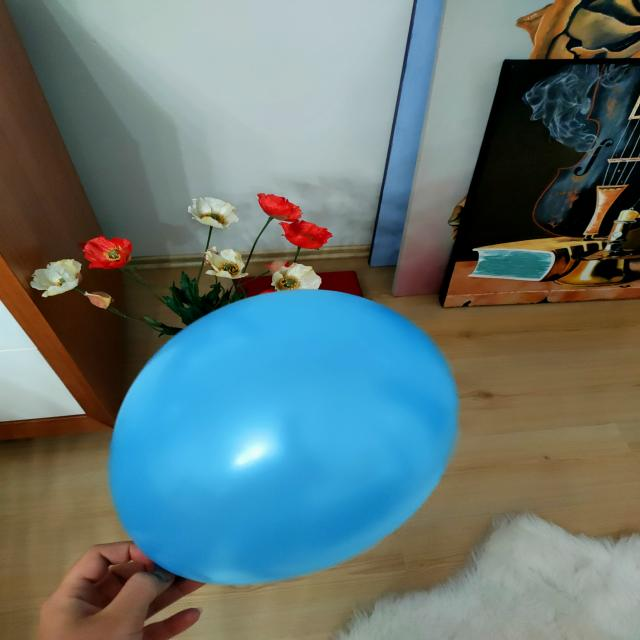blue: (106, 290, 457, 589)
